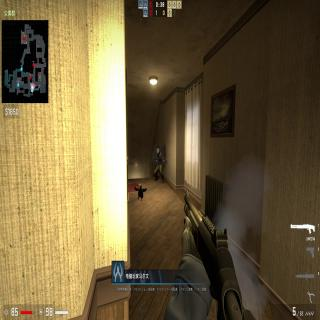T-Body: (153, 146, 164, 185)
T-Head: (156, 146, 160, 154)
